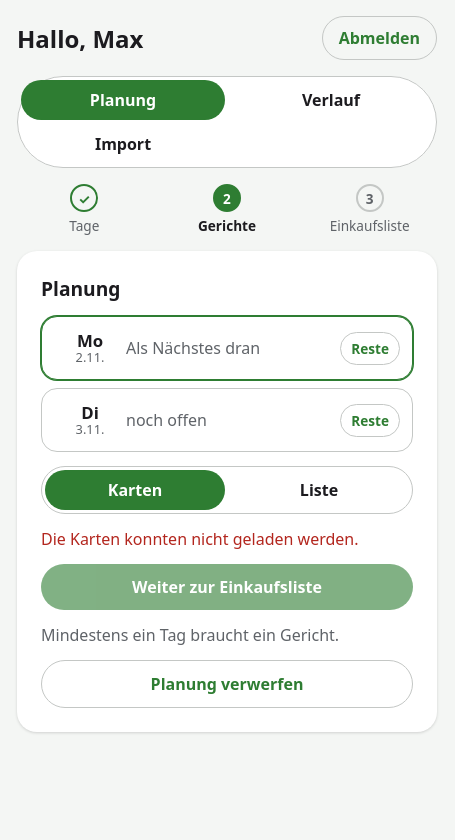
Test: choosing a dinner for the next open day › lists the eligible recipes for that day, flags a missing time, and filters by the search
Click the button "Liste" at (319, 490), box [229,470,409,510]
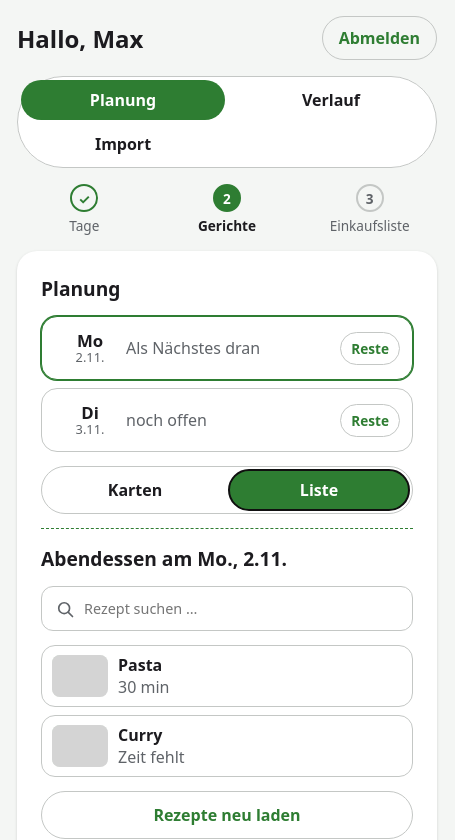
Now the heading "Abendessen am Mo., 2.11." is shown, box [41,545,287,572]
Now the button "Pasta 30 min" is shown, box [41,645,413,707]
Now the button "Curry Zeit fehlt" is shown, box [41,715,413,777]
Type "cur" into the search field labelled "Rezept suchen" at (227, 608), box [41,586,413,631]
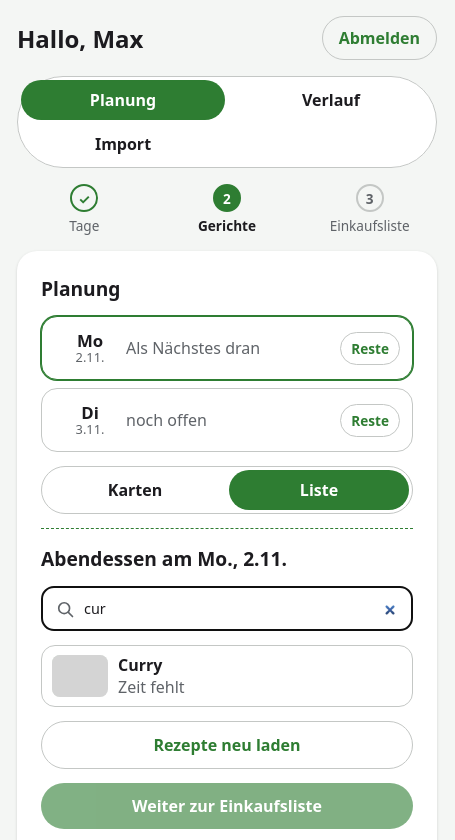
Now the button "Curry Zeit fehlt" is shown, box [41,645,413,707]
Now the button "Pasta" is gone
Replace the text in the search field named "Rezept suchen" with "xyz" at (227, 608), box [41,586,413,631]
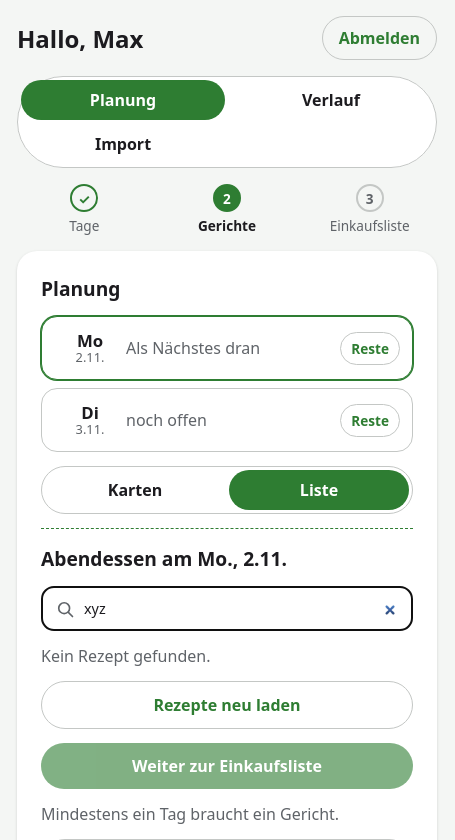
Now the text "Kein Rezept gefunden." is shown, box [41,645,210,667]
